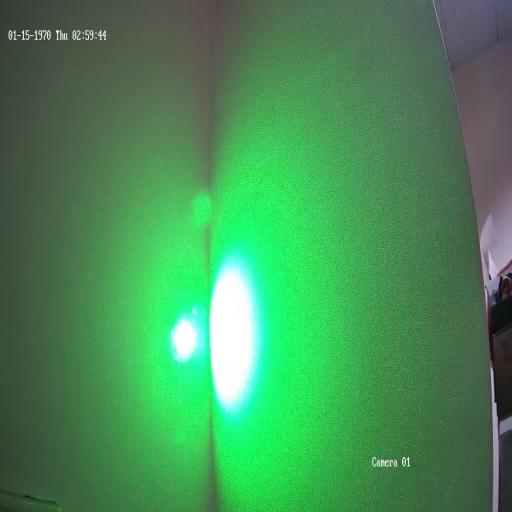laser: (158, 290, 200, 382)
